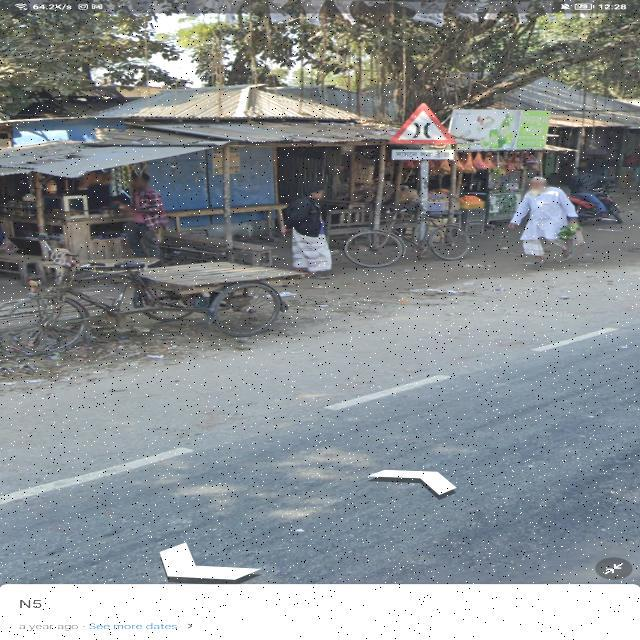Ahead-of-the-bridge: (389, 103, 460, 171), (427, 136, 463, 166)
